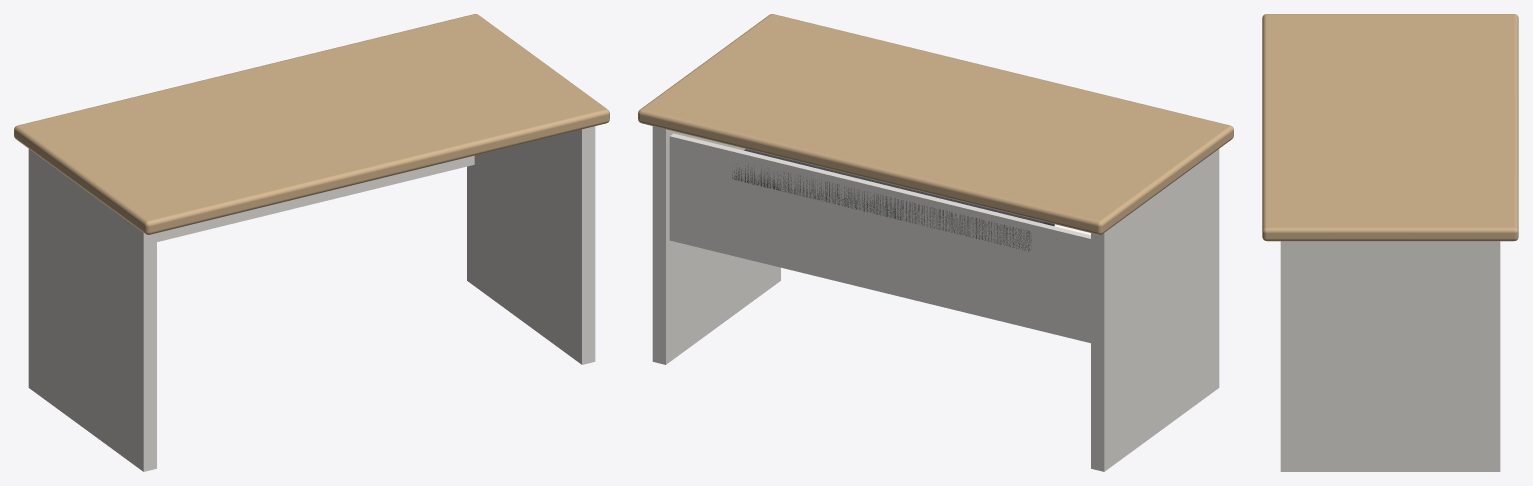
Rendered from mesa-reta.glb.
3 views of the same model, side by side, from view 1: azimuth 30°, elevation 25°; view 2: azimuth 150°, elevation 25°; view 3: azimuth 270°, elevation 25° (orthographic). The views are drawn at different scales.
Visible parts, largest first — view 1: mesa-reta_malha; view 2: mesa-reta_malha; view 3: mesa-reta_malha.
Part boxes in pixels (x1,y1,x2,y2): mesa-reta_malha: [14, 14, 609, 471]; mesa-reta_malha: [638, 14, 1233, 471]; mesa-reta_malha: [1262, 14, 1518, 471].
Bounding box in the file's own units: 1.4 × 0.74 × 0.7.
